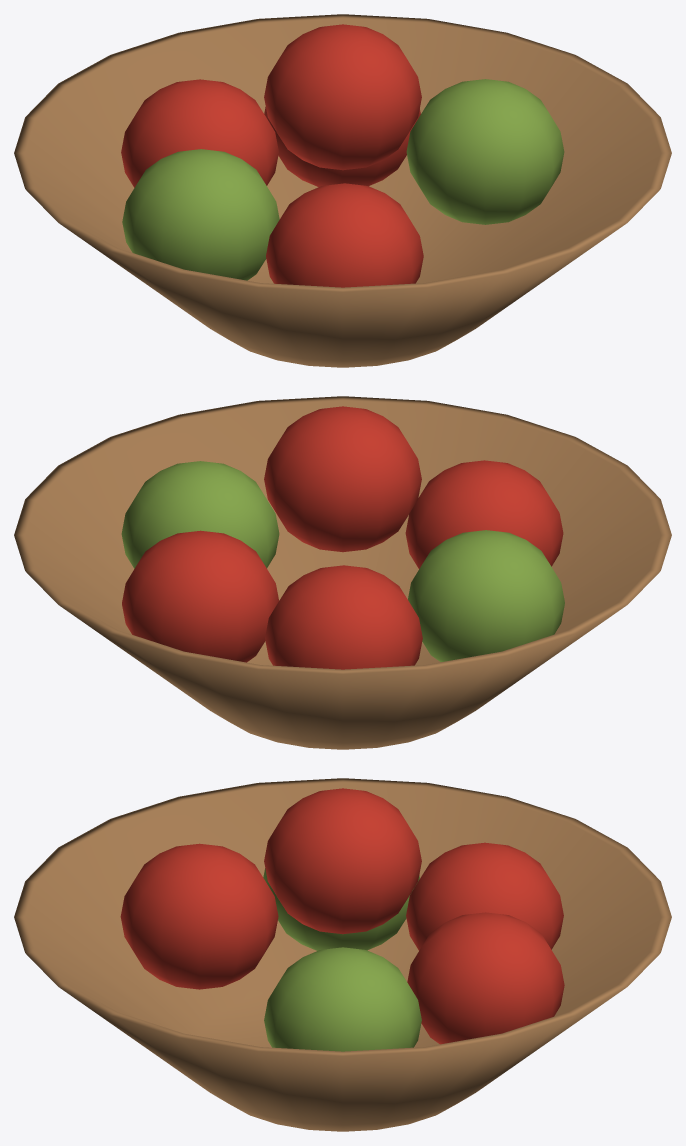
The model's file is i_kit_8.glb.
3 renders of one model, top to bottom at view 1: azimuth 30°, elevation 25°; view 2: azimuth 150°, elevation 25°; view 3: azimuth 270°, elevation 25°, orthographic.
Visible parts, largest first — view 1: o, o.001, o.006, o.004, o.005, o.003, o.002; view 2: o, o.006, o.004, o.002, o.003, o.001, o.005; view 3: o, o.005, o.006, o.002, o.001, o.003, o.004.
Boxes of the visible parts, box(x1,y1,x2,y2) form: o: box(14, 14, 671, 367); o.001: box(406, 79, 564, 224); o.006: box(264, 24, 421, 170); o.004: box(122, 149, 279, 280); o.005: box(266, 183, 423, 287); o.003: box(121, 79, 278, 187); o.002: box(264, 107, 420, 186); o: box(14, 396, 671, 749); o.006: box(264, 406, 421, 552); o.004: box(408, 530, 564, 662); o.002: box(122, 530, 278, 662); o.003: box(265, 565, 422, 669); o.001: box(121, 461, 279, 568); o.005: box(405, 460, 563, 568); o: box(14, 778, 671, 1131); o.005: box(120, 843, 278, 989); o.006: box(264, 788, 421, 934); o.002: box(407, 912, 564, 1044); o.001: box(264, 947, 421, 1051); o.003: box(406, 842, 563, 950); o.004: box(263, 868, 419, 950).
Size of the model in its own units: 0.3 by 0.1412 by 0.3.
